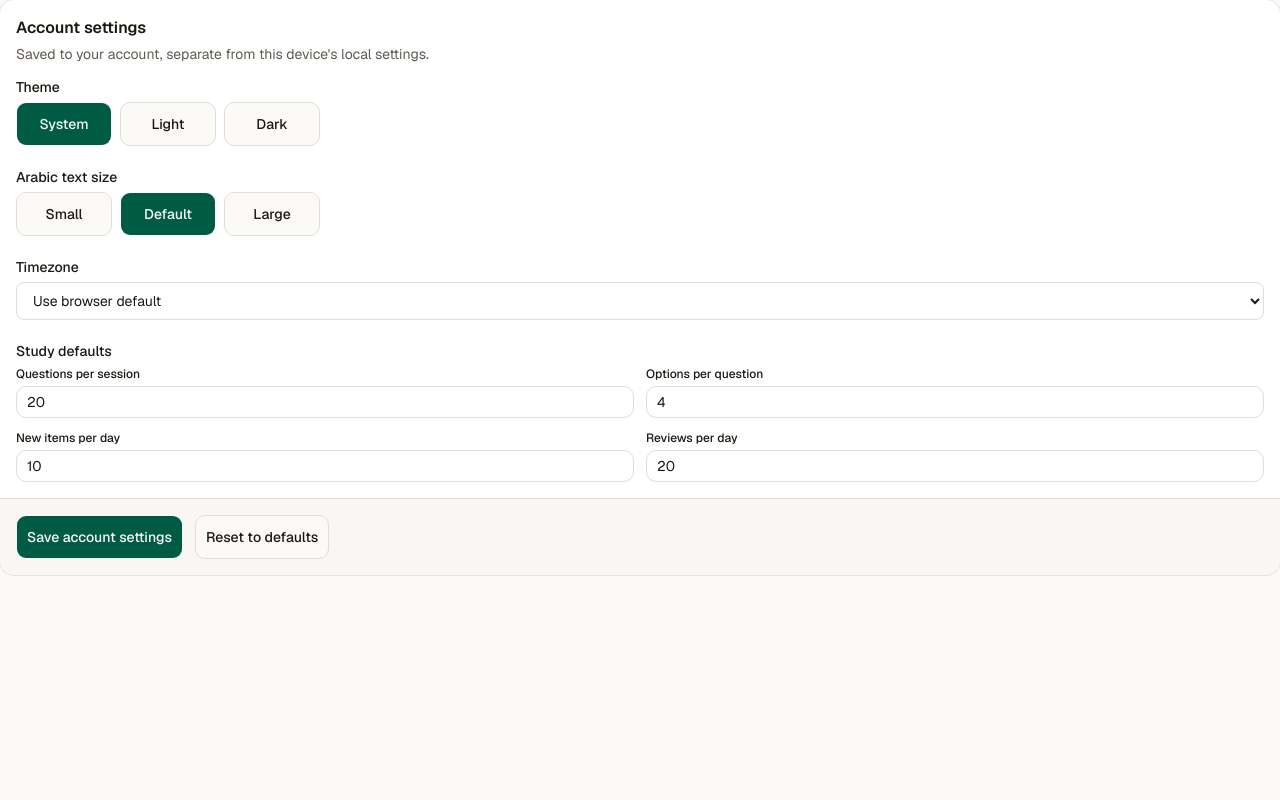
AccountSettingsForm › disables both Save and Reset while either is pending, so a rapid Save-then-Reset click cannot race
What coordinates should you click on to do the following:
click the button "Save account settings"
I would click on:
 (99, 537)
Its box is [16, 515, 183, 559].
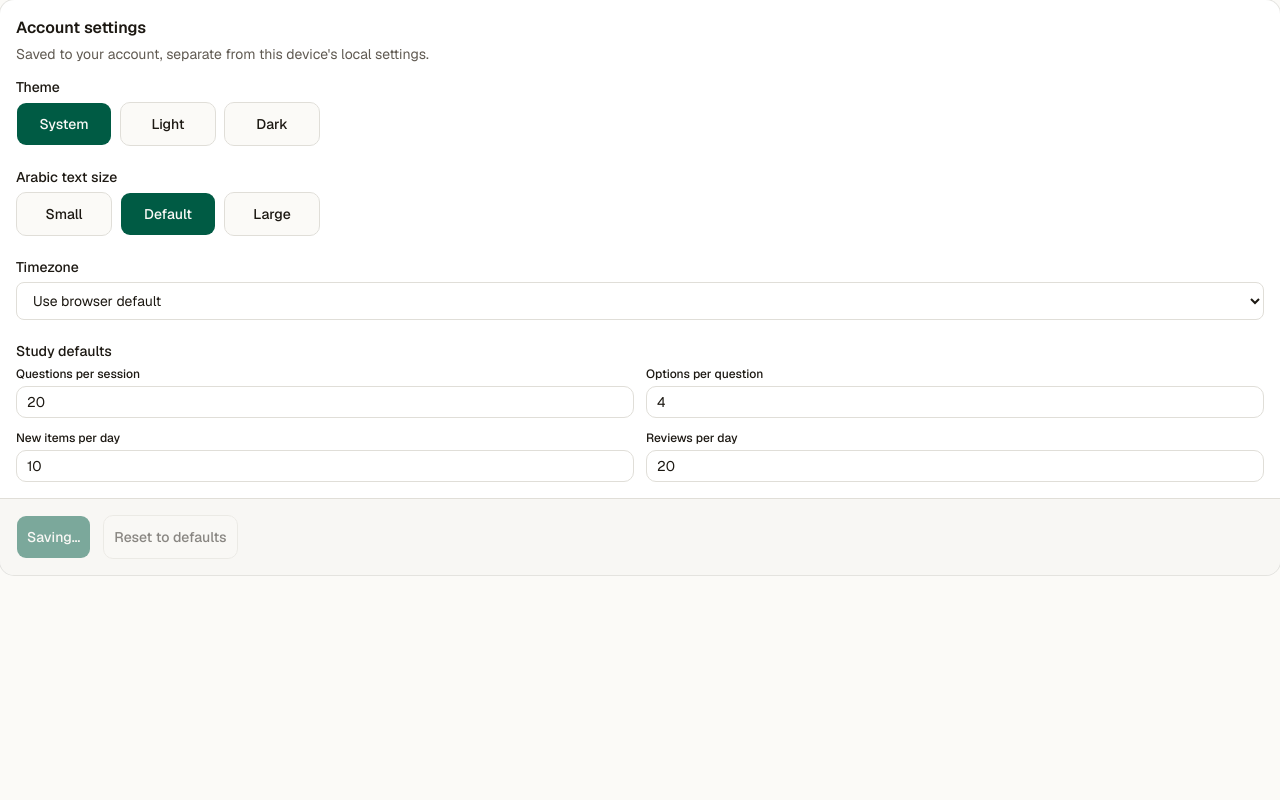
Result: the button "Saving…" is disabled at [16, 515, 91, 559]
Result: the button "Reset to defaults" is disabled
What coordinates should you click on to do the following:
click the button "Reset to defaults"
I would click on:
 (170, 537)
Its box is [103, 515, 238, 559].
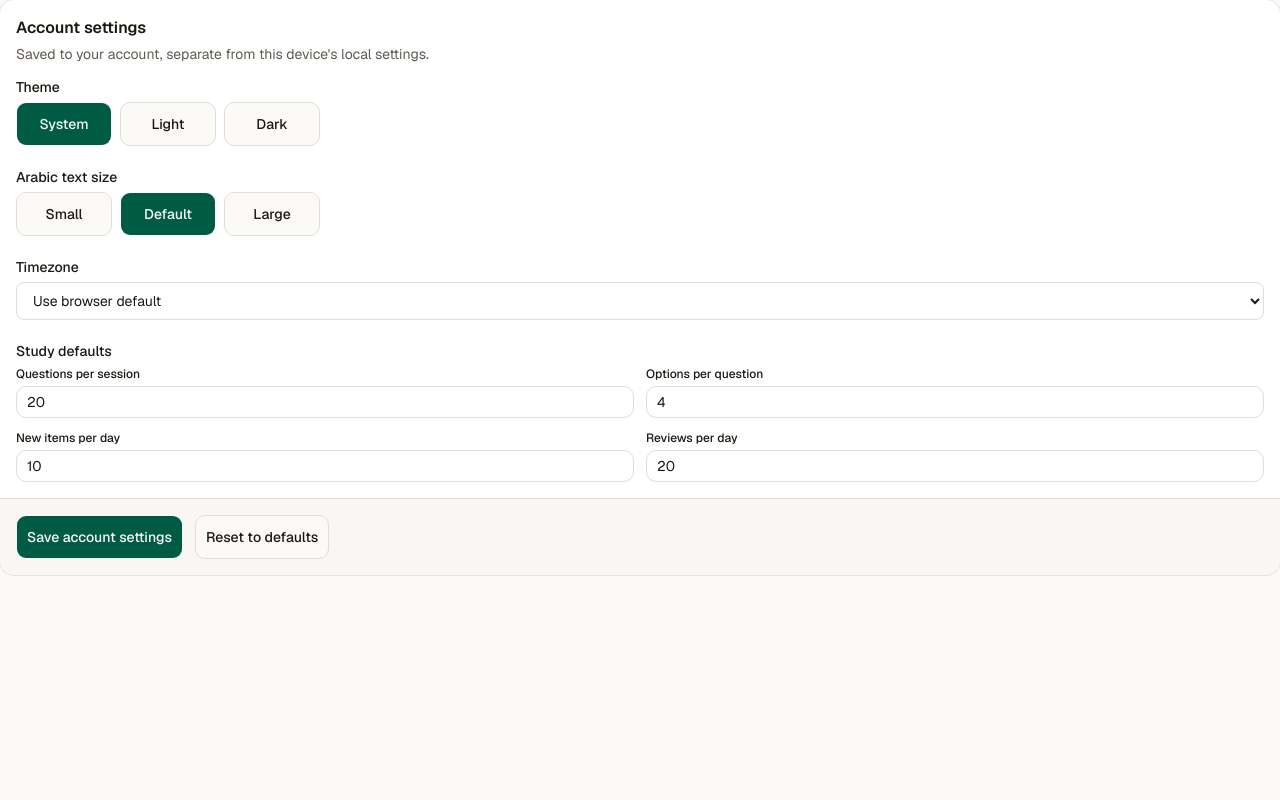
Result: the button "Save account settings" is enabled at [16, 515, 183, 559]
Result: the button "Reset to defaults" is enabled at [195, 515, 329, 559]
